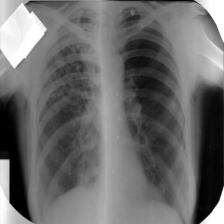tuberculosis: (27, 1, 196, 224)
